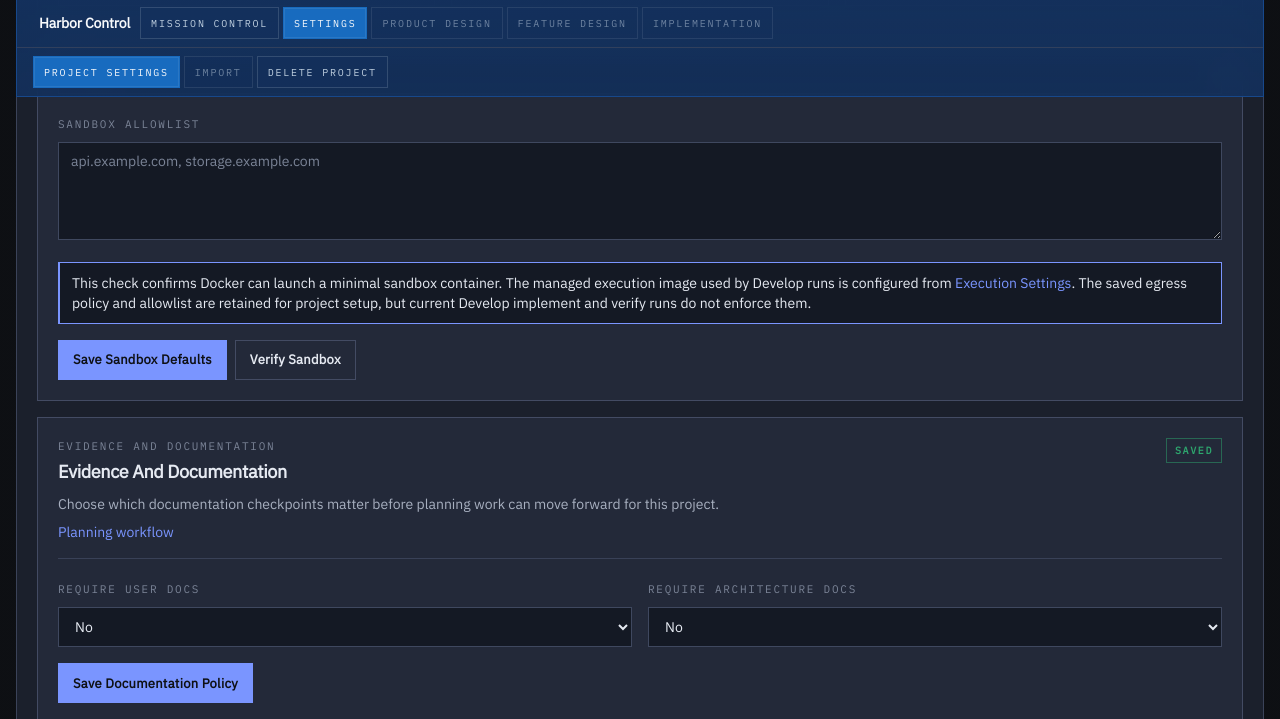
Scenario: project setup page › shows Fastify validation messages when sandbox save fails before verification
(page scrolled)
Click the button "Verify Sandbox" at (295, 360), box [235,340,356,380]
(page scrolled)
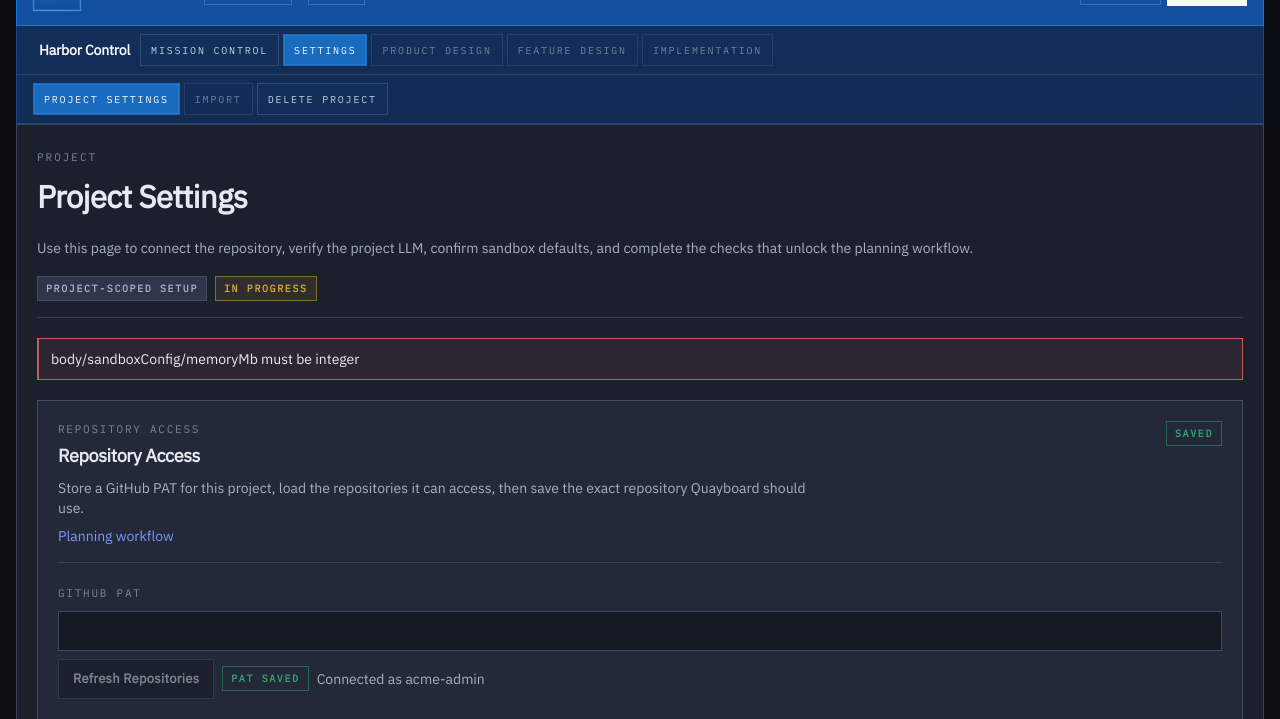
expect the text "body/sandboxConfig/memoryMb must be integer" is shown: met, box [37,338,1243,380]
